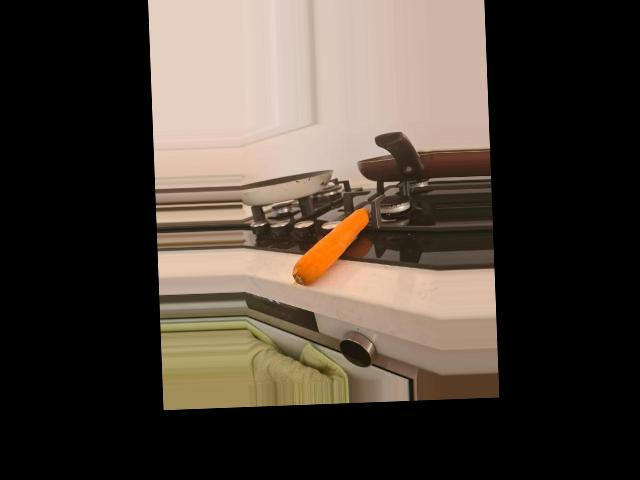carrot: (291, 206, 374, 288)
